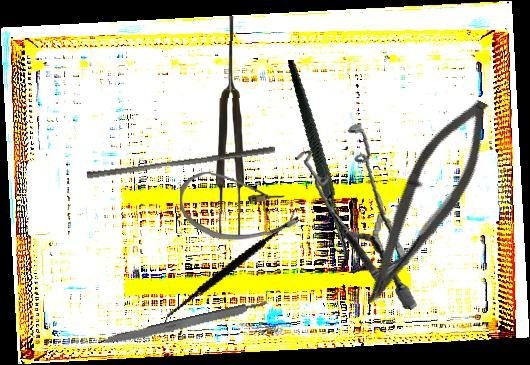Cannula: (179, 170, 299, 242)
Hook Surgical: (247, 59, 409, 277)
Micro Scissor: (351, 87, 504, 319)
Pusher: (86, 138, 276, 186)
Scalpel Handle: (99, 298, 270, 350)
Spatula Surgical: (161, 180, 298, 361)
Speculum: (278, 115, 439, 311)
Tissue Forceps: (215, 15, 247, 239)
